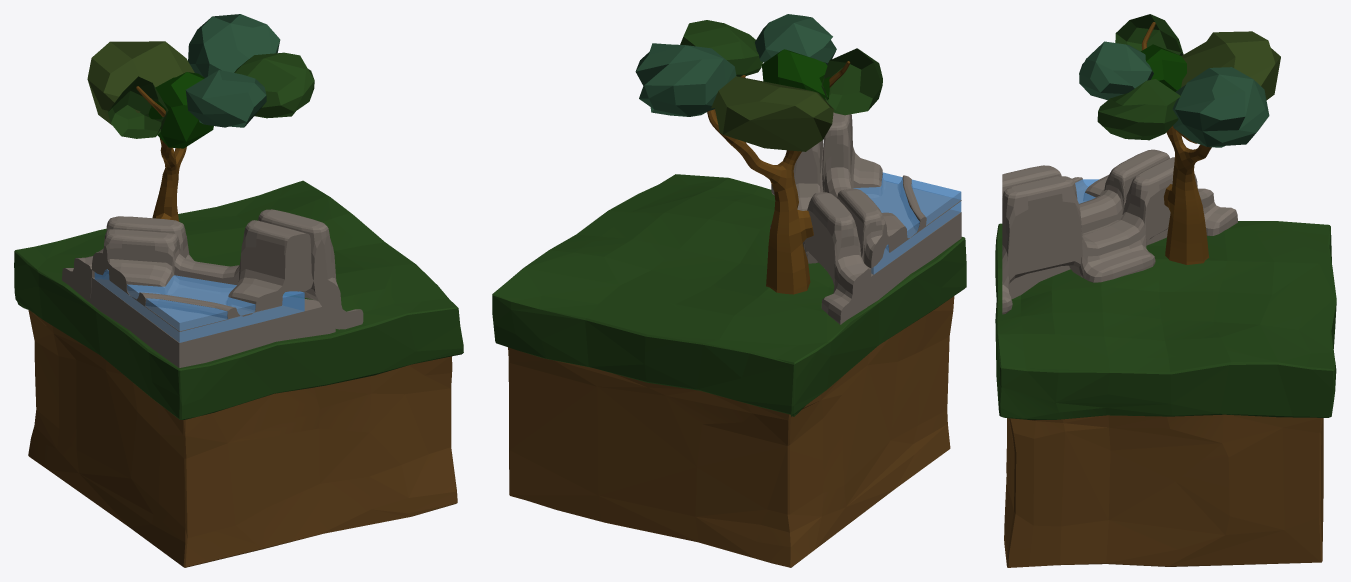
3 renders of one model, left to right at view 1: azimuth 30°, elevation 25°; view 2: azimuth 150°, elevation 25°; view 3: azimuth 270°, elevation 25°, orthographic. The views are drawn at different scales.
Parts seen in each view (by area): view 1: R1, tree trunk.001; view 2: R1, tree trunk.001; view 3: R1, tree trunk.001.
Boxes of the visible parts, x1=… form: R1: x1=14, y1=180, x2=463, y2=567; tree trunk.001: x1=87, y1=14, x2=314, y2=221; R1: x1=492, y1=112, x2=966, y2=567; tree trunk.001: x1=635, y1=14, x2=882, y2=294; R1: x1=995, y1=149, x2=1336, y2=567; tree trunk.001: x1=1079, y1=14, x2=1280, y2=264.
Bounding box in the file's own units: 1.09 × 1.52 × 1.07.
